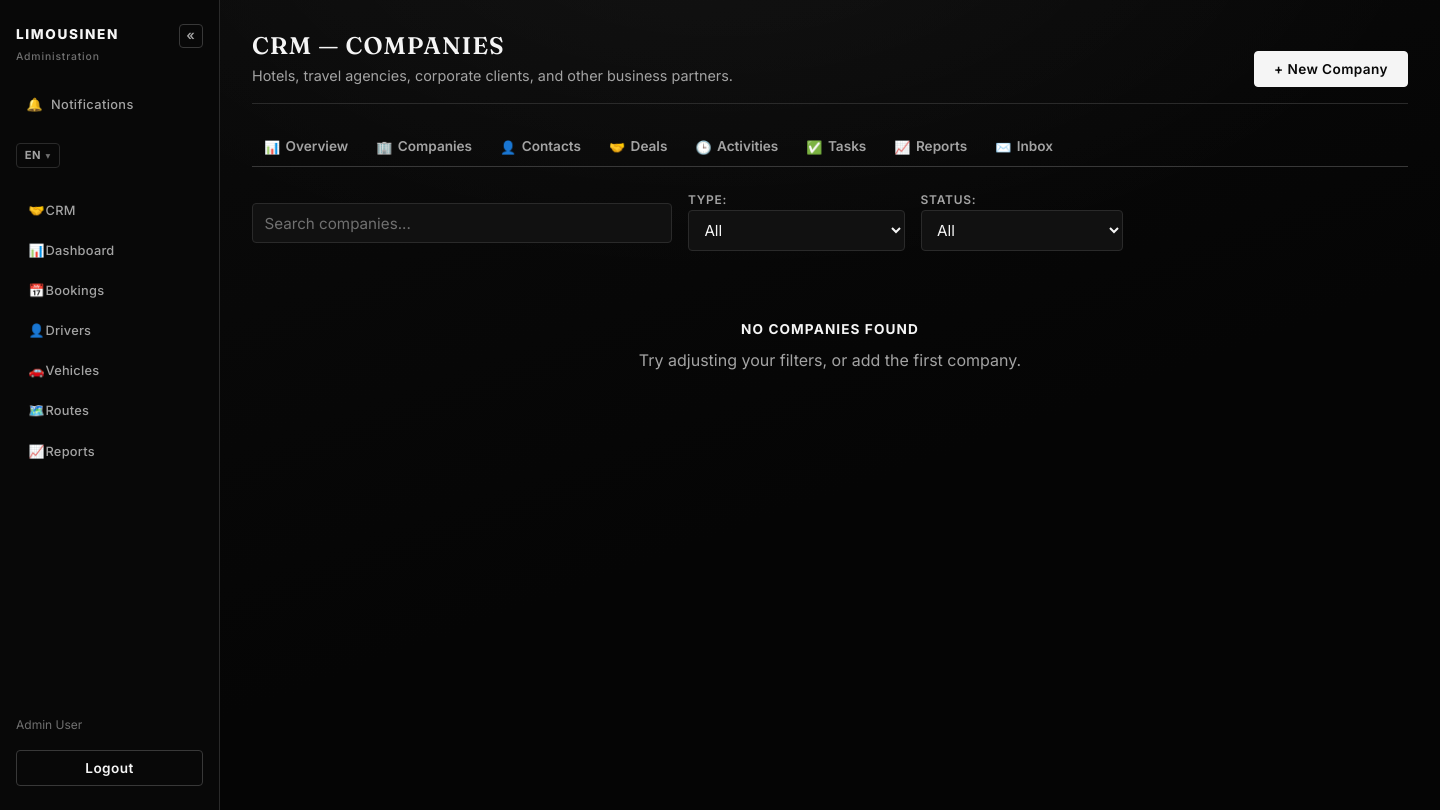
CrmCompaniesPage › creates a company
Expected: the text "No Companies Found" is shown, [741,321,919,337]
Click the button "+ New Company" at [1331, 69], box [1254,52,1408,87]
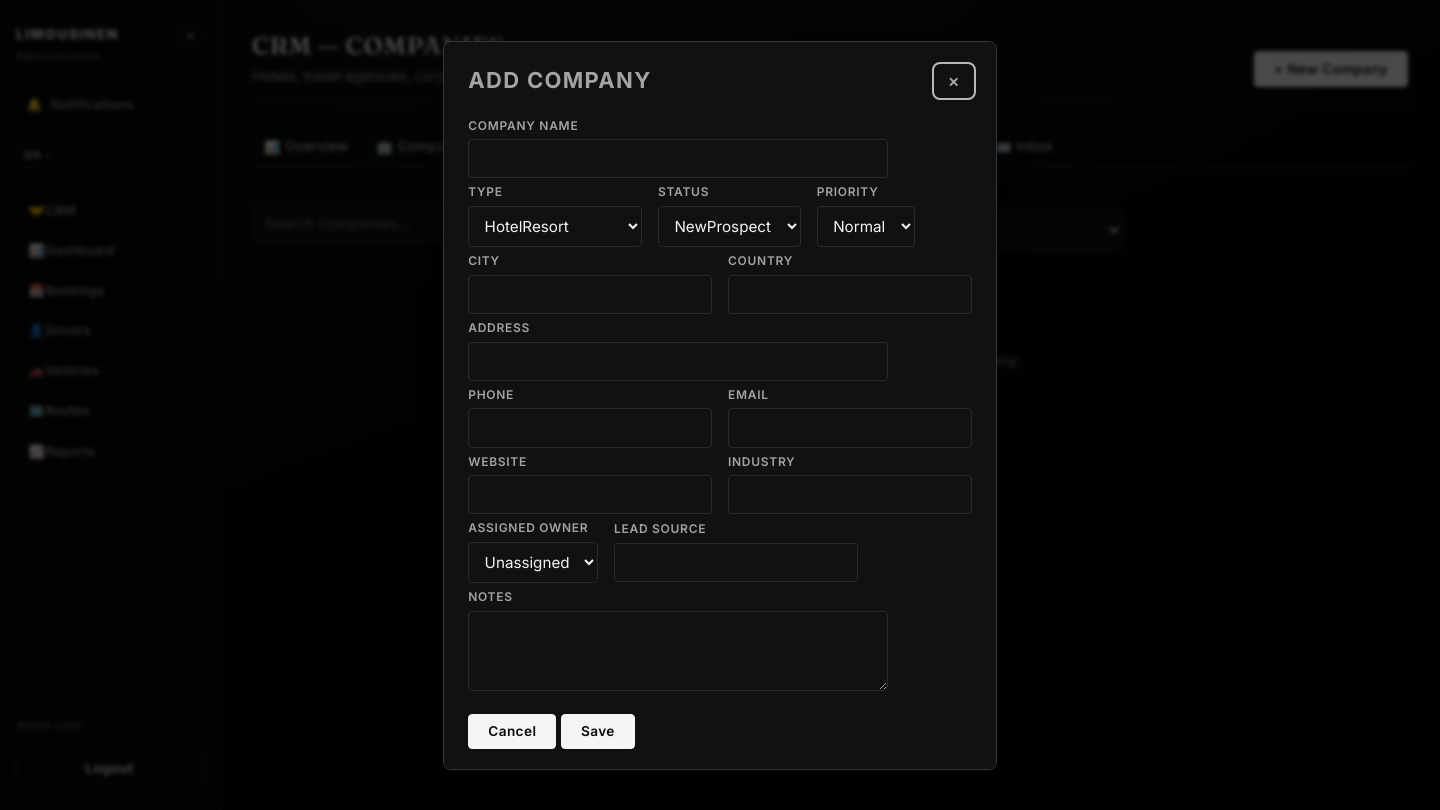
Type "Grand Hotel Zurich" into the field labelled "Company name" at [678, 159], box [468,139,888,178]
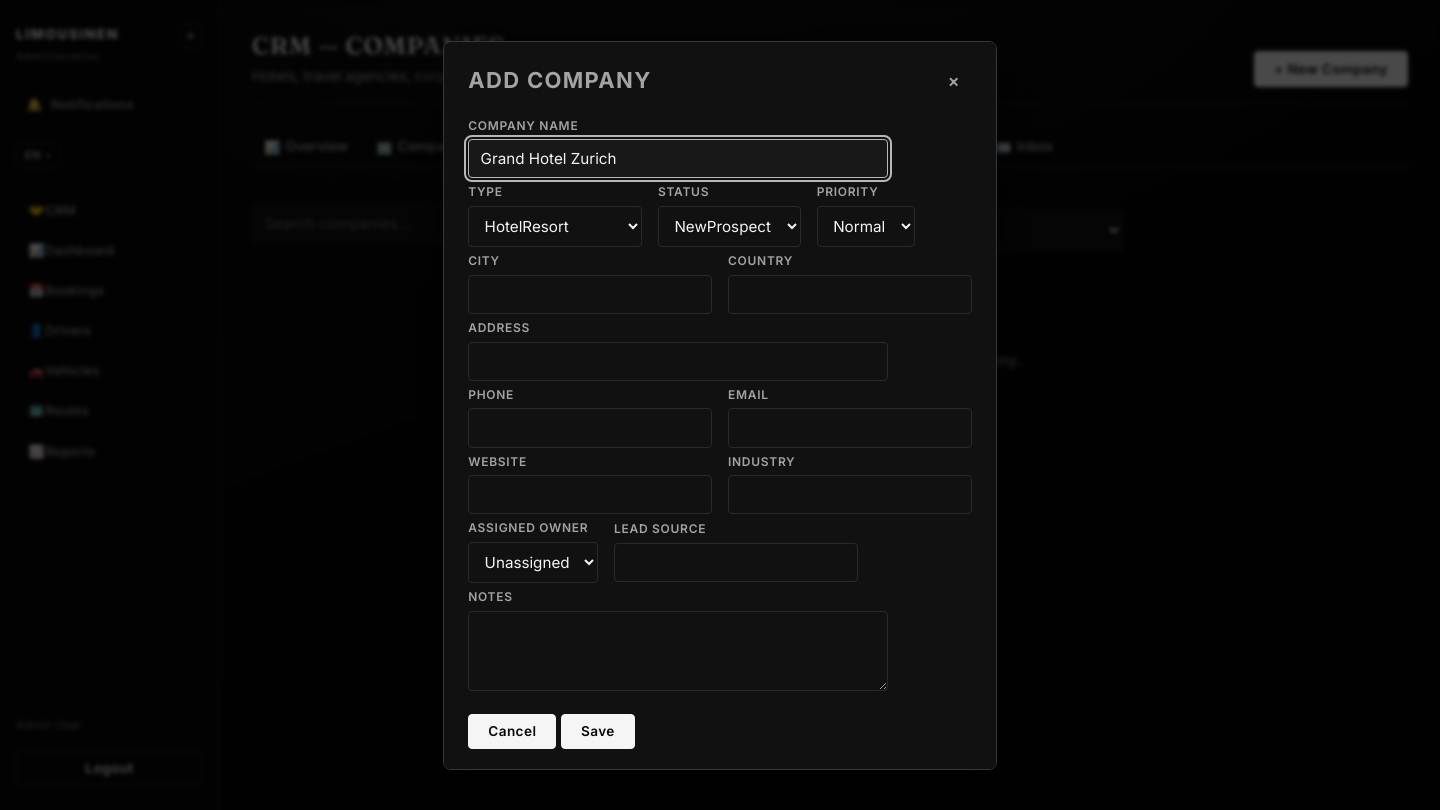
Click the button "Save" at [598, 731], box [561,714,635,749]
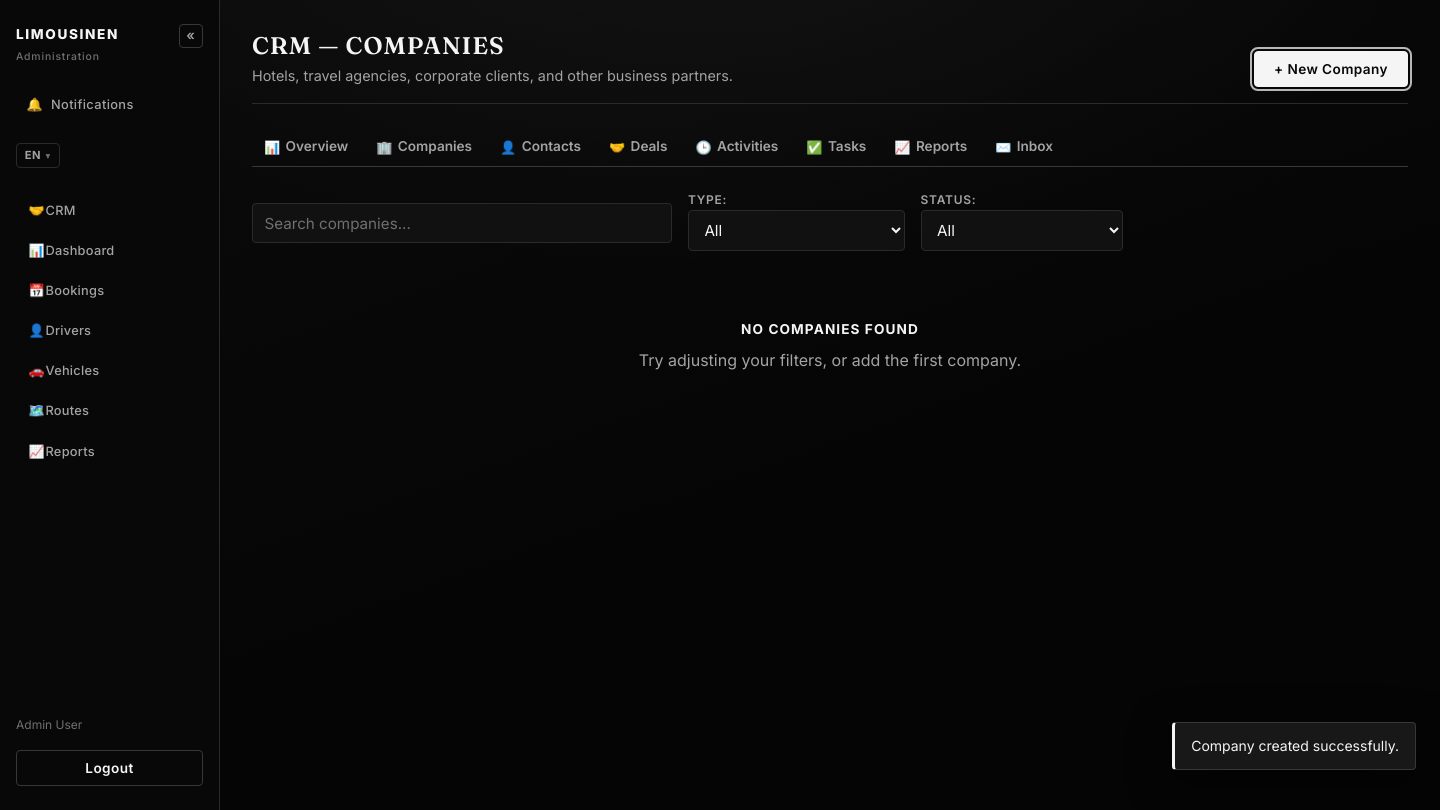
Now the message reads "Company created successfully.", box [1191,737,1399,754]
